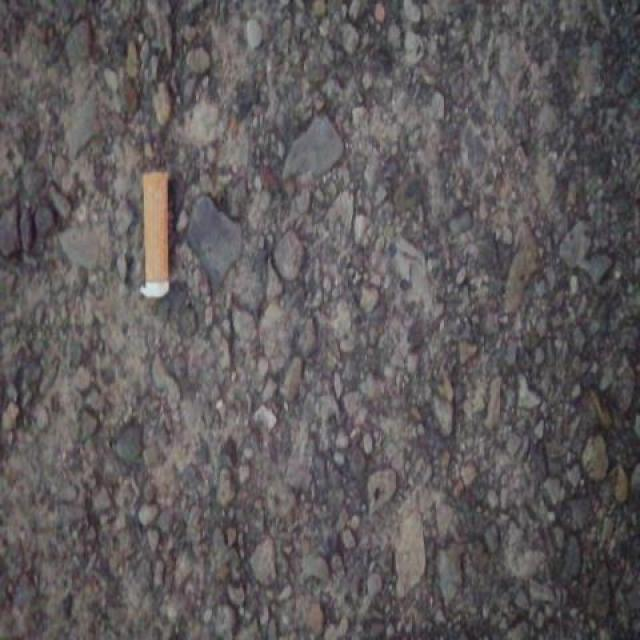non-organic waste: (137, 166, 171, 302)
